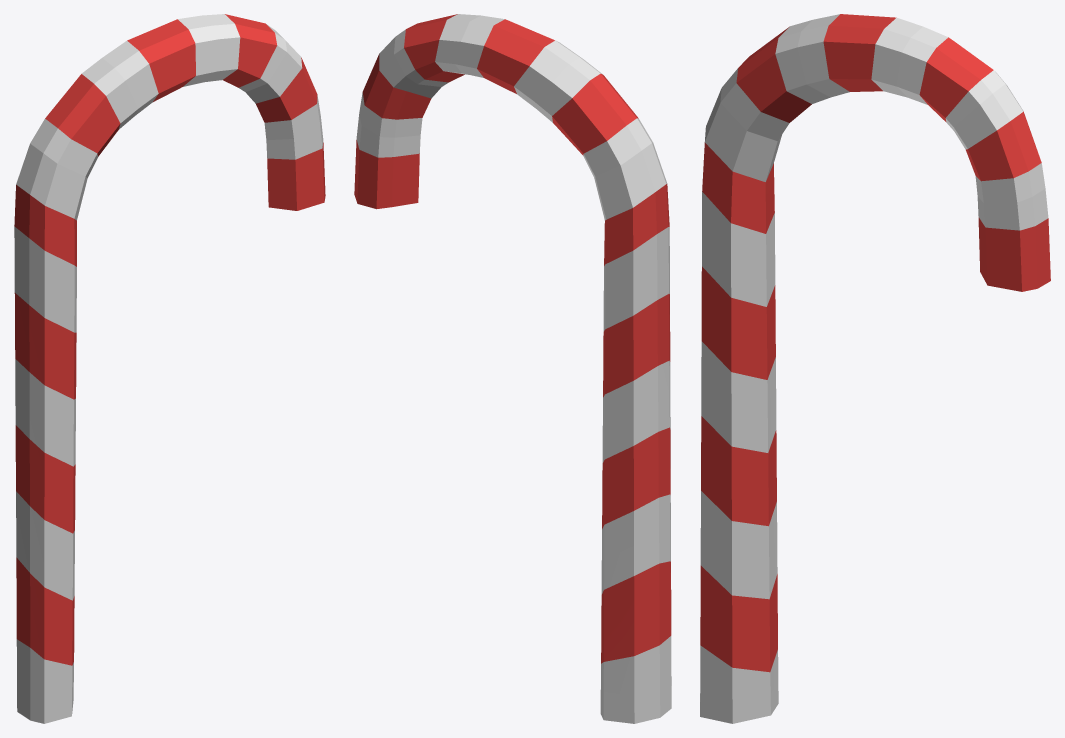
The model's file is CandyCane.fbx.
3 renders of one model, left to right at view 1: azimuth 30°, elevation 25°; view 2: azimuth 150°, elevation 25°; view 3: azimuth 330°, elevation 25°, orthographic. The views are drawn at different scales.
Parts seen in each view (by area): view 1: Cube; view 2: Cube; view 3: Cube.
Part boxes in pixels (x1=…): Cube: x1=14, y1=14, x2=325, y2=723; Cube: x1=354, y1=14, x2=671, y2=723; Cube: x1=700, y1=14, x2=1050, y2=723.
Bounding box in the file's own units: 553 × 1139 × 118.
